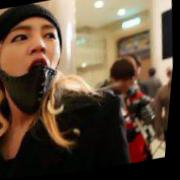WRONG: (1, 16, 70, 108)
